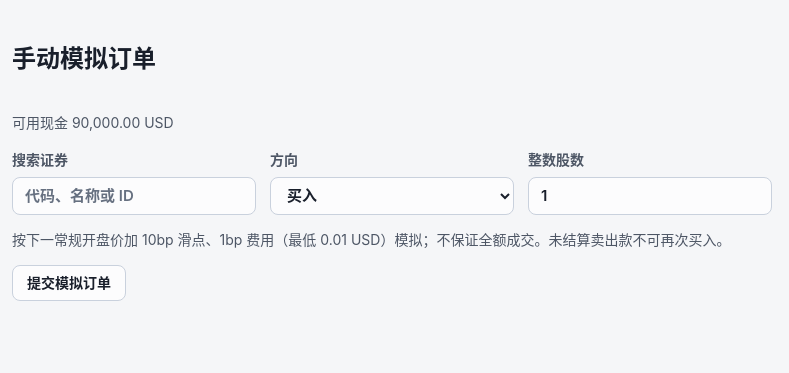
requires integer shares and preserves inputs after 503
The image size is (789, 373).
Focus the field labelled "搜索证券" at (134, 196), box [12,177,256,215]
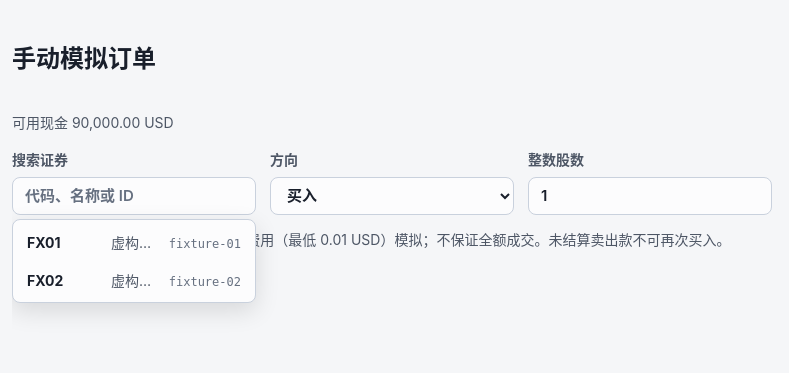
Click the option "FX01 虚构企业 1 fixture-01" at (134, 242), box [17,224,251,260]
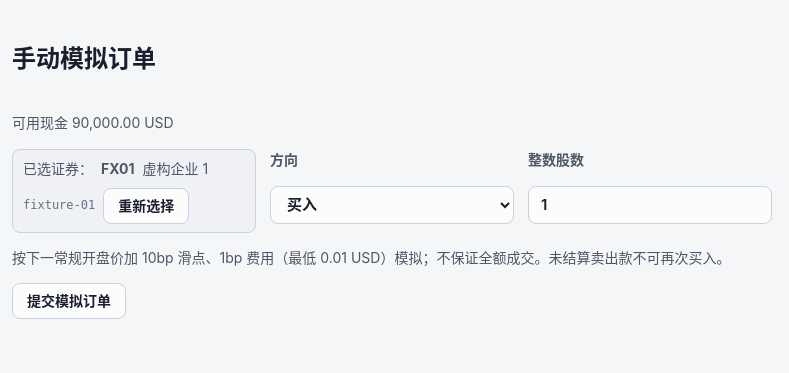
Replace the text in the field labelled "整数股数" with "1.5" at (650, 205), box [528,186,772,224]
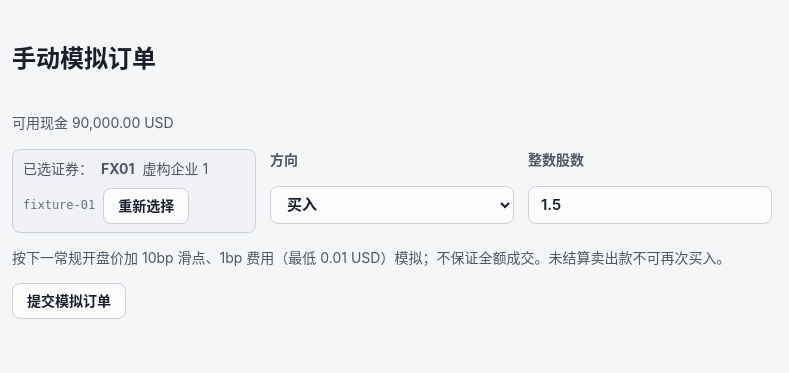
Submit the form named "提交模拟订单"
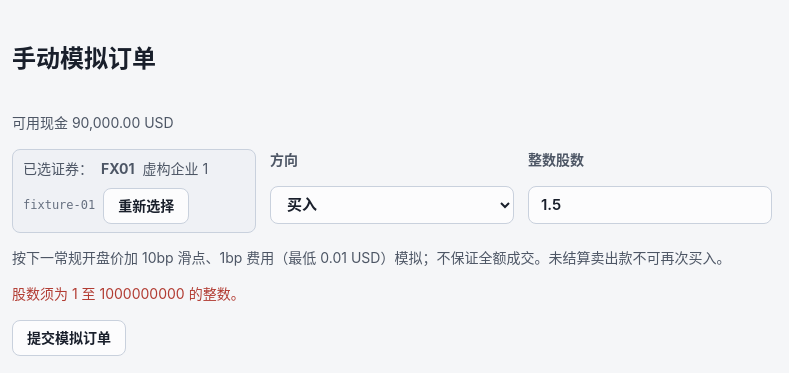
Expected: the message shows "整数", [12,285,245,302]
Replace the text in the field labelled "整数股数" with "10" at (650, 205), box [528,186,772,224]
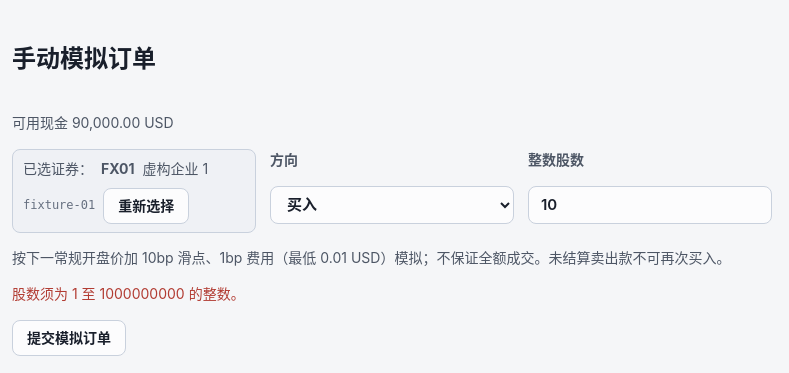
Click the button "提交模拟订单" at (69, 338), box [12,320,126,356]
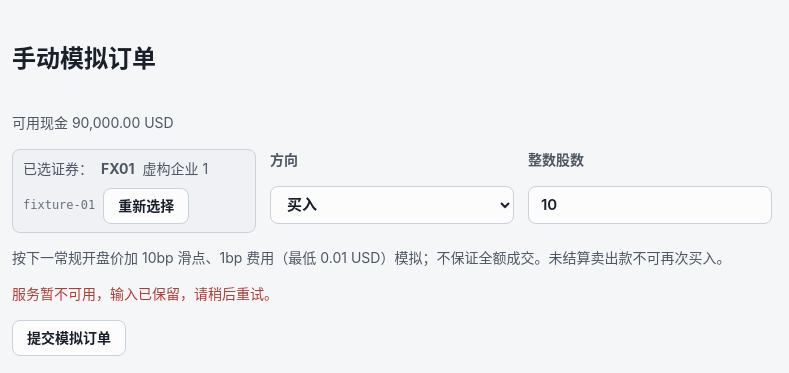
Expected: the message shows "服务暂不可用", [12,285,278,302]
